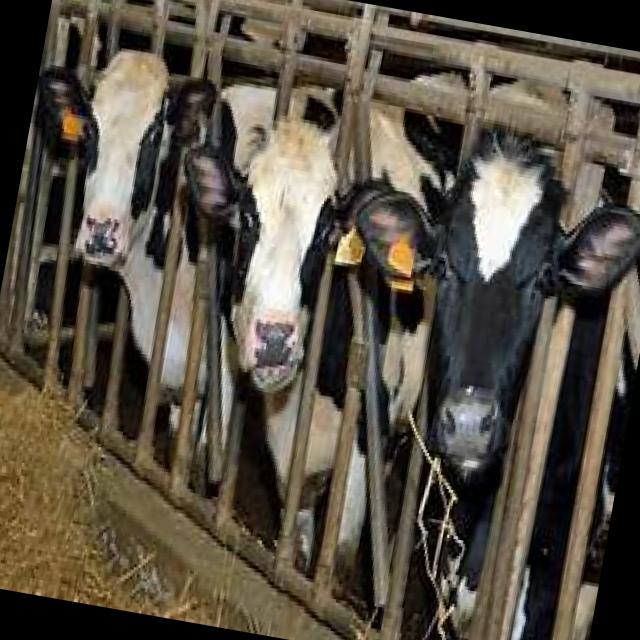animal: (264, 99, 640, 640), (113, 85, 340, 600), (0, 18, 194, 601)
